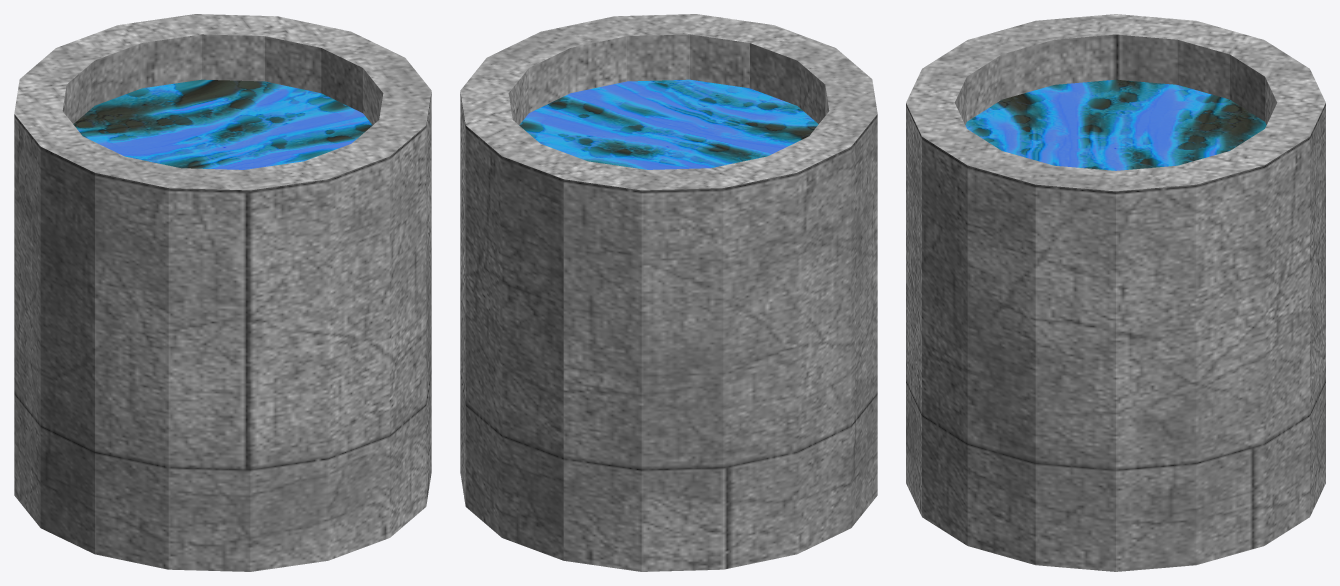
The model's file is crystal_bin.obj.
The picture shows the model from 3 angles, left to right: view 1: azimuth 30°, elevation 25°; view 2: azimuth 150°, elevation 25°; view 3: azimuth 270°, elevation 25°; orthographic projection.
Parts seen in each view (by area): view 1: Trash_Can; view 2: Trash_Can; view 3: Trash_Can.
Part boxes in pixels (x1=…): Trash_Can: x1=14, y1=14, x2=431, y2=571; Trash_Can: x1=460, y1=14, x2=877, y2=571; Trash_Can: x1=906, y1=14, x2=1325, y2=571.
Bounding box in the file's own units: 1.09 × 1.09 × 1.09.
Materials: 2 (2 with a texture image).
